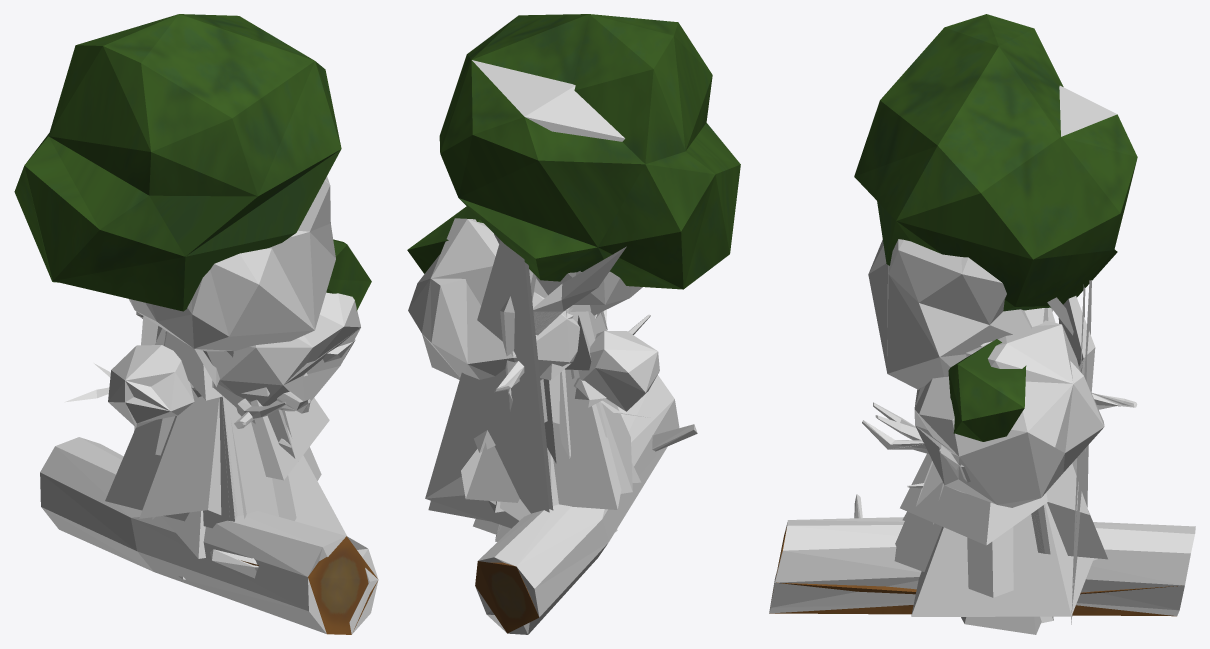
The model's file is green-export LOD models.FBX.
3 renders of one model, left to right at view 1: azimuth 30°, elevation 25°; view 2: azimuth 150°, elevation 25°; view 3: azimuth 270°, elevation 25°, orthographic. The views are drawn at different scales.
Visible parts, largest first — view 1: double-tree med, horizontal-trunk Med, triple-tree Med, small-pine med, new-pine med, simple-tree med, pine med, horizontal-trunk Low, triple-tree low, dead-tree-two; view 2: double-tree med, new-pine Low, horizontal-trunk Med, simple-tree med, pine med, triple-tree Med, double-tree Low, new-pine med, big-dead-tree med, horizontal-trunk Low, small-pine med, simple-tree Low (+2 smaller); view 3: double-tree med, horizontal-trunk Med, simple-tree med, new-pine med, triple-tree Med, small-pine med, pine med, horizontal-trunk Low, simple-tree Low, big-dead-tree med, new-pine Low, double-tree Low (+3 smaller).
Boxes of the visible parts, x1,y1,x2,y2 form: double-tree med: [14, 14, 371, 311]; horizontal-trunk Med: [40, 437, 378, 634]; triple-tree Med: [108, 176, 355, 427]; small-pine med: [139, 383, 321, 520]; new-pine med: [155, 331, 346, 558]; simple-tree med: [156, 292, 360, 411]; pine med: [105, 328, 295, 528]; horizontal-trunk Low: [241, 536, 377, 634]; triple-tree low: [125, 230, 314, 410]; dead-tree-two: [234, 398, 286, 428]; double-tree med: [407, 14, 740, 289]; new-pine Low: [425, 240, 553, 528]; horizontal-trunk Med: [475, 375, 697, 634]; simple-tree med: [408, 218, 602, 380]; pine med: [461, 308, 621, 509]; triple-tree Med: [494, 234, 659, 411]; double-tree Low: [472, 60, 624, 141]; new-pine med: [425, 278, 641, 520]; big-dead-tree med: [500, 246, 626, 532]; horizontal-trunk Low: [475, 561, 539, 633]; small-pine med: [488, 369, 632, 512]; simple-tree Low: [418, 254, 573, 357]; double-tree med: [854, 14, 1137, 441]; horizontal-trunk Med: [769, 494, 1195, 615]; simple-tree med: [914, 320, 1104, 507]; new-pine med: [900, 307, 1093, 616]; triple-tree Med: [868, 239, 1052, 482]; small-pine med: [894, 512, 1097, 597]; pine med: [916, 461, 1107, 559]; horizontal-trunk Low: [769, 527, 1181, 616]; simple-tree Low: [915, 325, 1080, 456]; big-dead-tree med: [1047, 296, 1095, 392]; new-pine Low: [1071, 280, 1091, 624]; double-tree Low: [1059, 85, 1116, 136].
Size of the model in its own units: 297 by 514 by 347.
